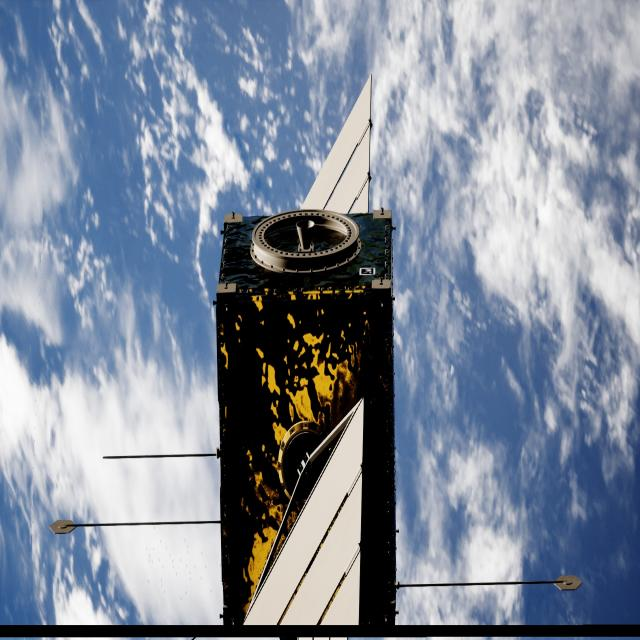medium_debris: (215, 104, 429, 640)
